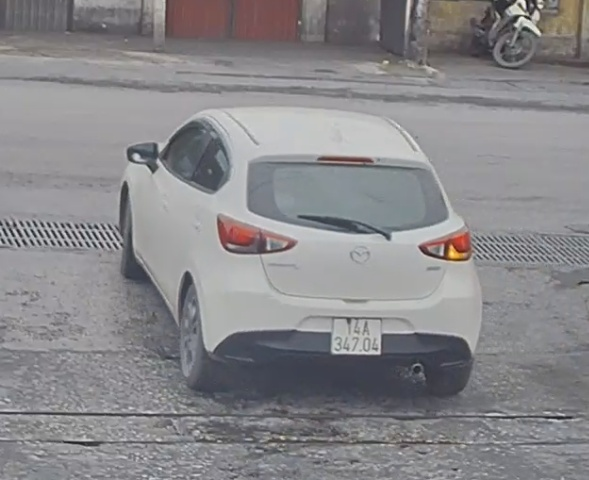vehicle plate: (326, 310, 389, 356)
